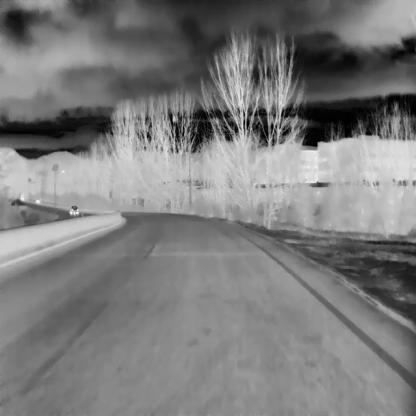car: (68, 204, 78, 214)
